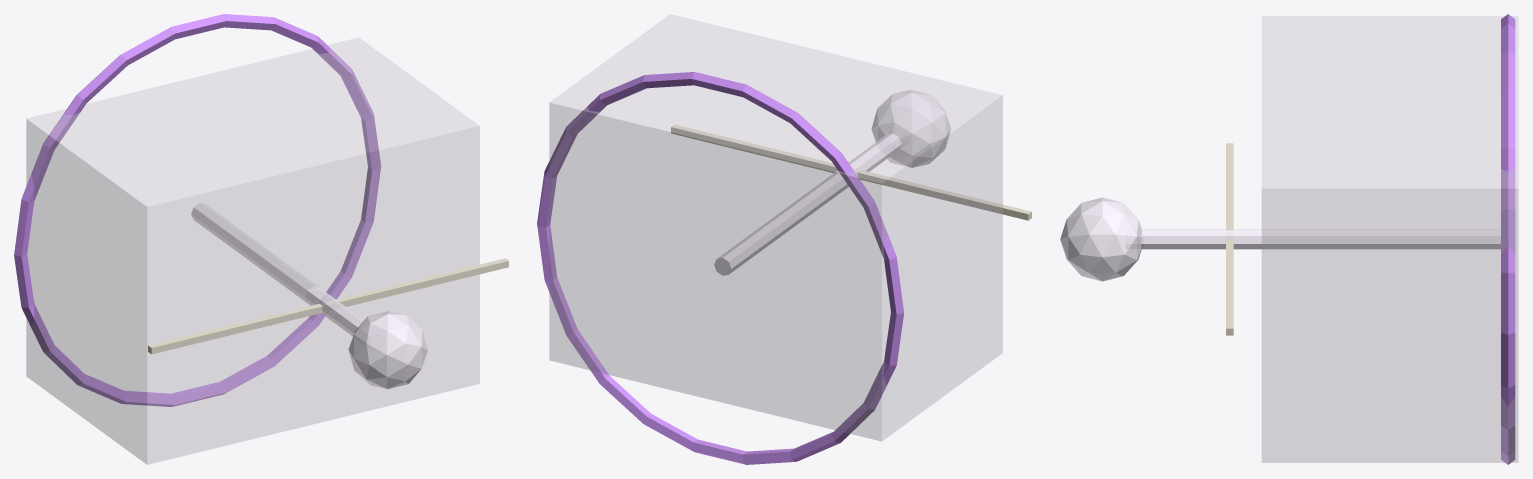
Rendered from 05_dynamic_camera_trigger.glb.
The picture shows the model from 3 angles, left to right: view 1: azimuth 30°, elevation 25°; view 2: azimuth 150°, elevation 25°; view 3: azimuth 270°, elevation 25°; orthographic projection. The views are drawn at different scales.
Visible parts, largest first — view 1: camera_trigger_volume, combat_start_ring, focus_target, focus_target_pole, camera_axis; view 2: camera_trigger_volume, combat_start_ring, focus_target, focus_target_pole, camera_axis; view 3: camera_trigger_volume, focus_target_pole, combat_start_ring, focus_target, camera_axis.
Boxes of the visible parts, x1,y1,x2,y2 form: camera_trigger_volume: (26, 37, 479, 464); combat_start_ring: (14, 14, 380, 406); focus_target: (348, 311, 427, 389); focus_target_pole: (191, 203, 364, 336); camera_axis: (148, 258, 508, 354); camera_trigger_volume: (549, 14, 1002, 441); combat_start_ring: (537, 72, 904, 464); focus_target: (871, 90, 950, 167); focus_target_pole: (714, 133, 901, 275); camera_axis: (671, 124, 1031, 220); camera_trigger_volume: (1262, 16, 1518, 462); focus_target_pole: (1141, 229, 1500, 249); combat_start_ring: (1501, 14, 1515, 464); focus_target: (1060, 197, 1141, 281); camera_axis: (1226, 143, 1233, 335).
Bounding box in the file's own units: 1.49 × 1.47 × 1.51.
